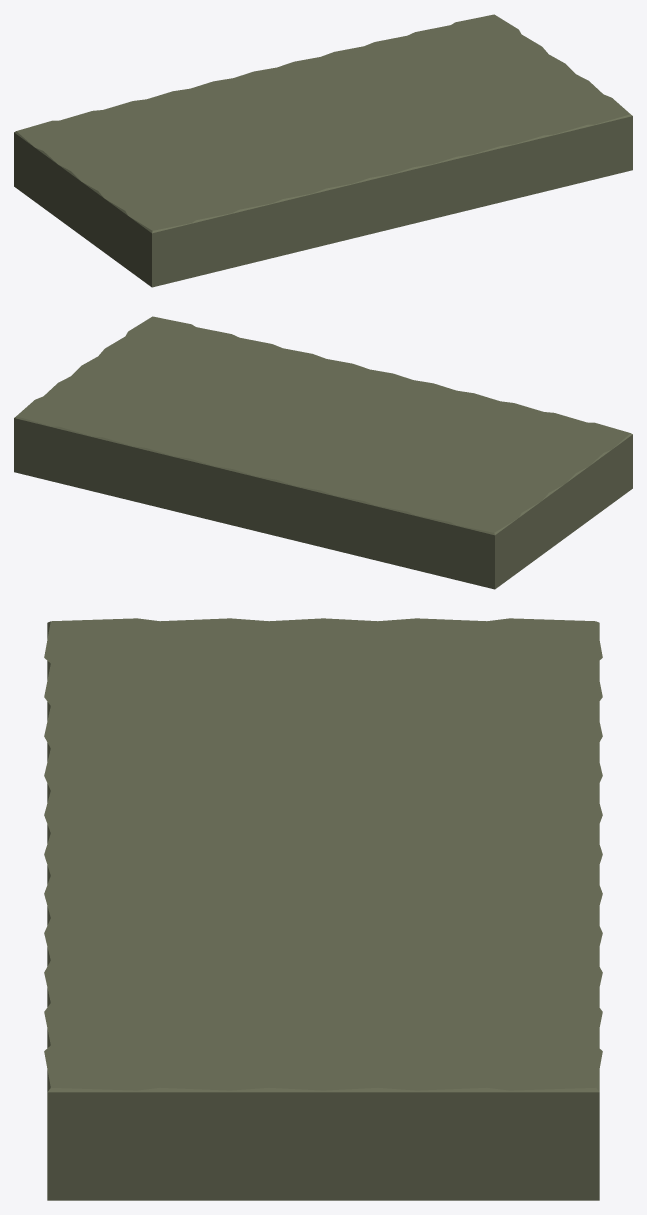
The model's file is mahsulot.glb.
3 renders of one model, top to bottom at view 1: azimuth 30°, elevation 25°; view 2: azimuth 150°, elevation 25°; view 3: azimuth 270°, elevation 25°, orthographic. The views are drawn at different scales.
Visible parts, largest first — view 1: mahsulot_A; view 2: mahsulot_A; view 3: mahsulot_A.
Part boxes in pixels (x1=…): mahsulot_A: x1=14, y1=14, x2=632, y2=287; mahsulot_A: x1=14, y1=316, x2=632, y2=589; mahsulot_A: x1=44, y1=618, x2=602, y2=1200.
Size of the model in its own units: 0.5 by 0.055 by 0.25.
